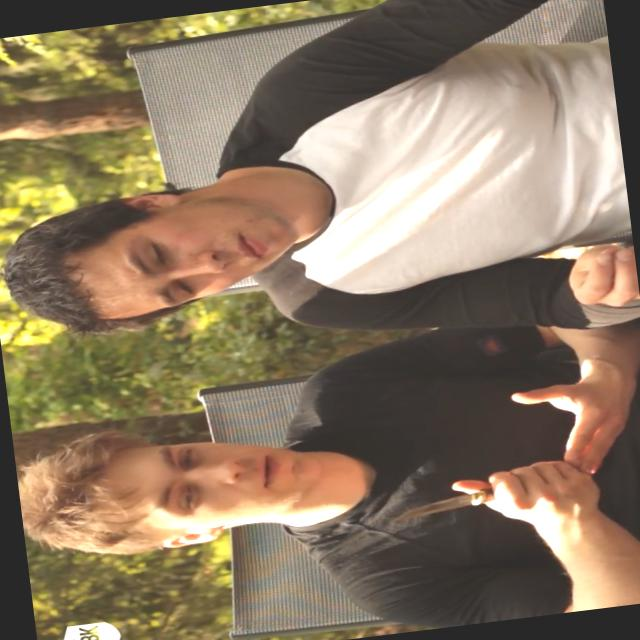knife: (364, 454, 556, 535)
